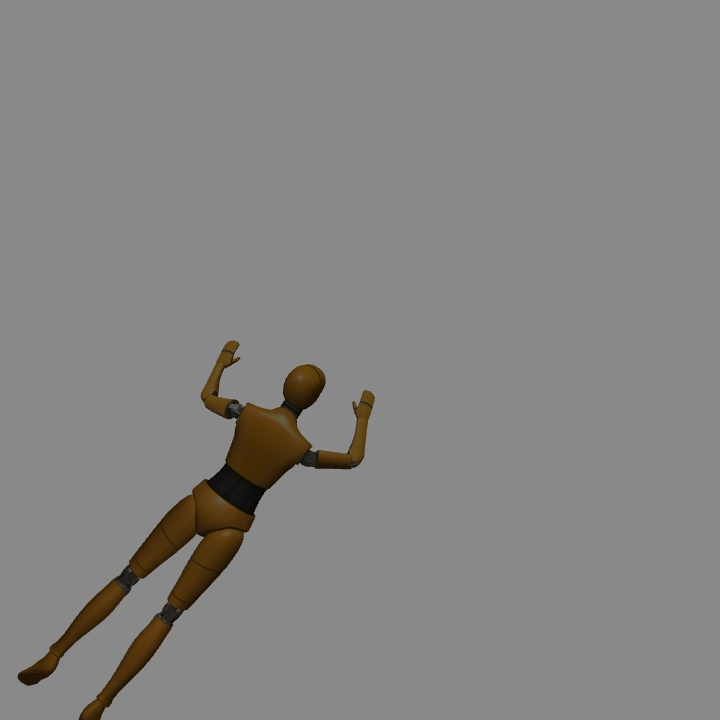victim: (22, 340, 378, 719)
